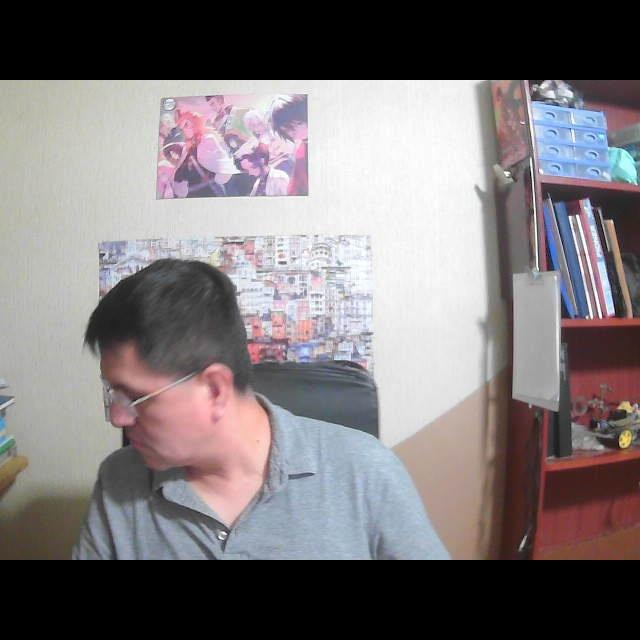cesar: (64, 245, 300, 490)
